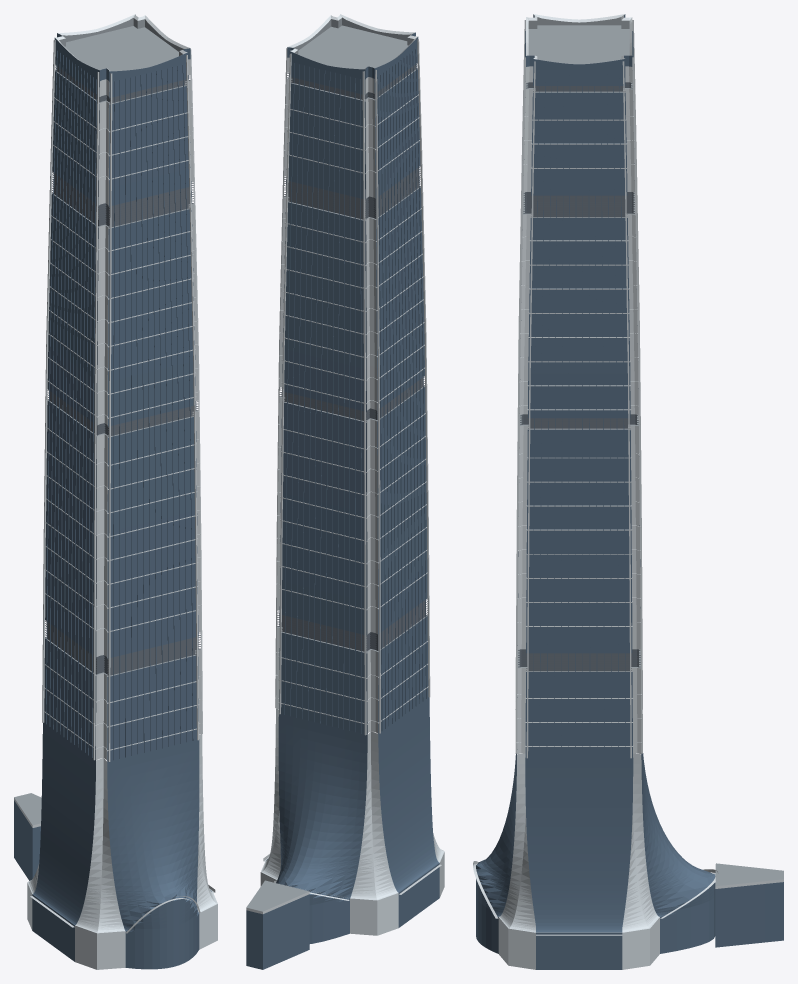
Rendered from hk-international-commerce-centre.detail.glb.
3 views of the same model, side by side, from view 1: azimuth 30°, elevation 25°; view 2: azimuth 150°, elevation 25°; view 3: azimuth 270°, elevation 25° (orthographic). The views are drawn at different scales.
Visible parts, largest first — view 1: International Commerce Centre; view 2: International Commerce Centre; view 3: International Commerce Centre.
Part boxes in pixels (box(x1,y1,x2,y2)): International Commerce Centre: box(14, 14, 217, 969); International Commerce Centre: box(246, 14, 444, 969); International Commerce Centre: box(473, 14, 783, 969).
Bounding box in the file's own units: 81.6 × 484 × 152.
